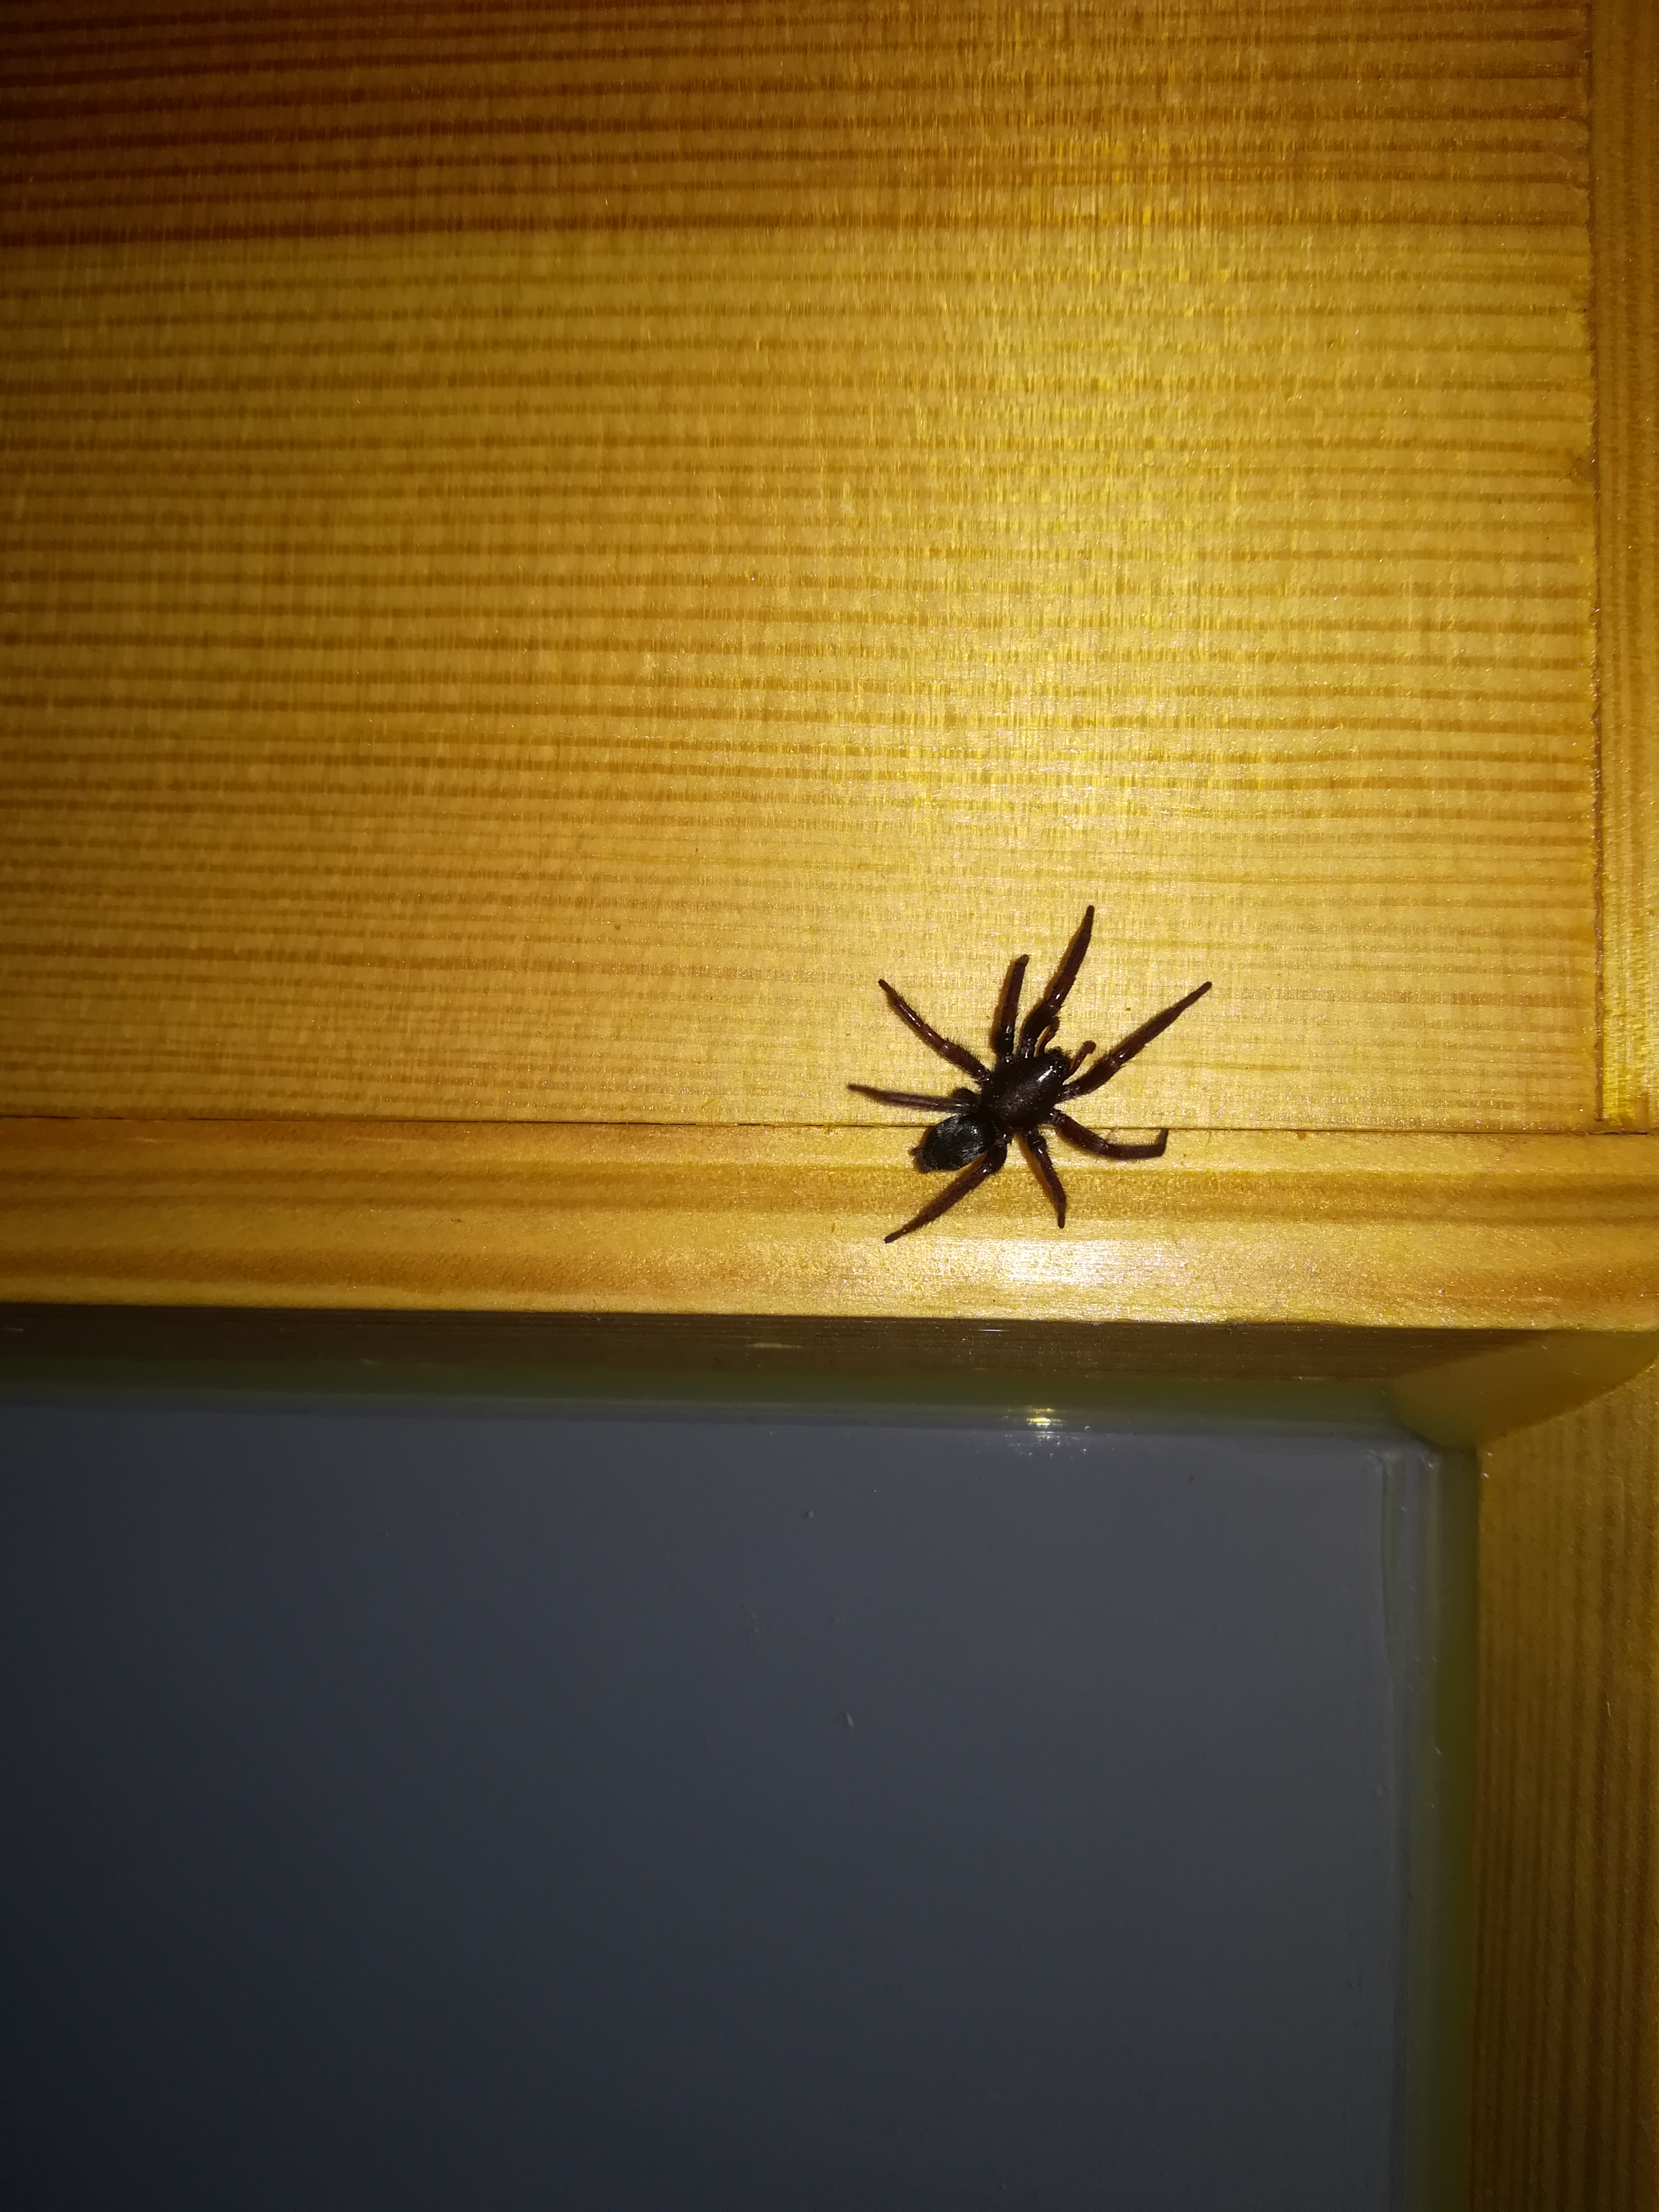spider: (817, 857, 1286, 1280)
